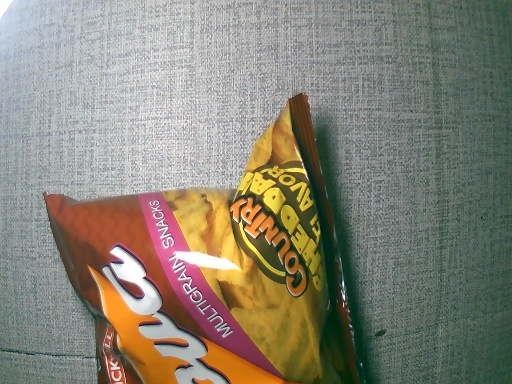plastic: (44, 87, 353, 384)
